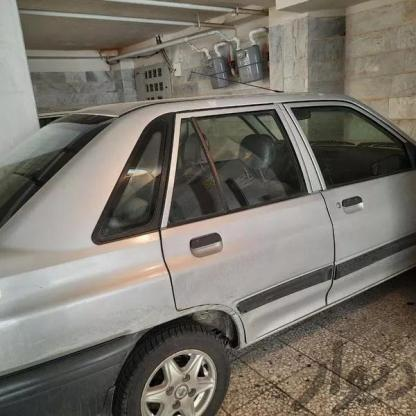Car: (0, 94, 416, 416)
